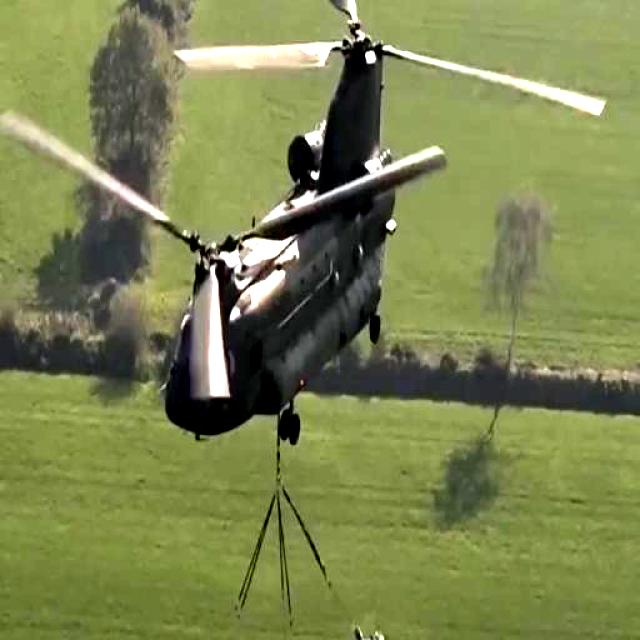drone: (0, 0, 612, 460)
